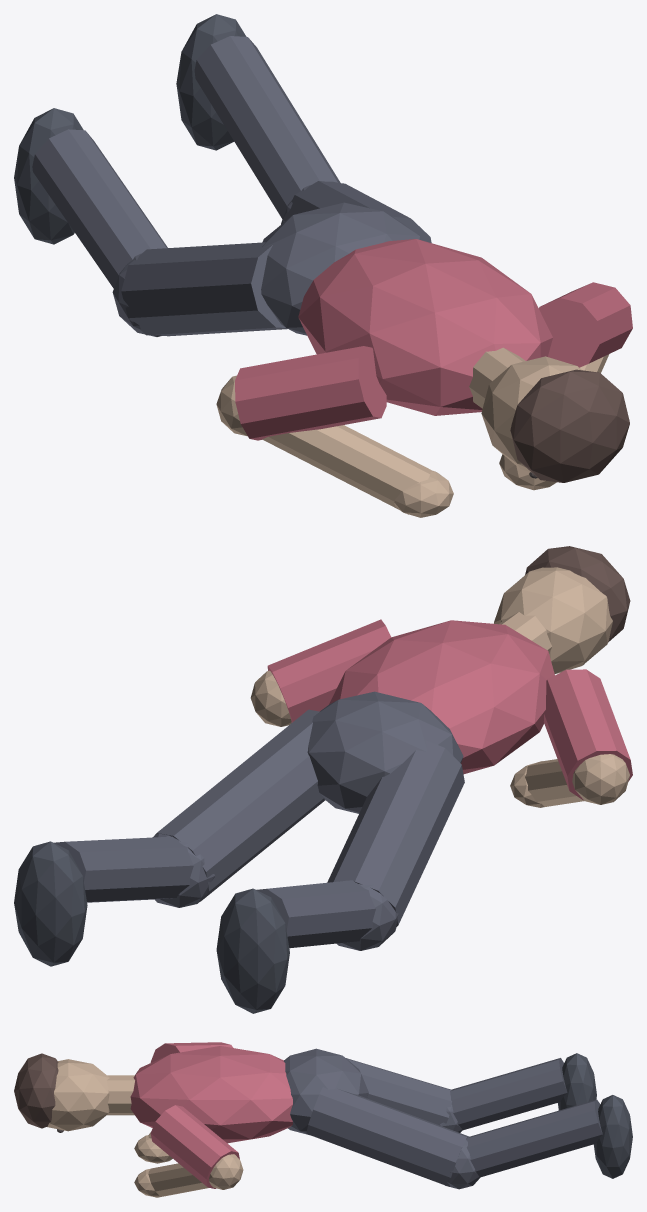
3 renders of one model, top to bottom at view 1: azimuth 30°, elevation 25°; view 2: azimuth 150°, elevation 25°; view 3: azimuth 270°, elevation 25°, orthographic. The views are drawn at different scales.
Visible parts, largest first — view 1: world; view 2: world; view 3: world.
Part boxes in pixels (<box>): world: <box>14,14,632,517</box>; world: <box>14,546,632,1013</box>; world: <box>14,1042,632,1197</box>.
Bounding box in the file's own units: 0.93 × 0.435 × 2.
